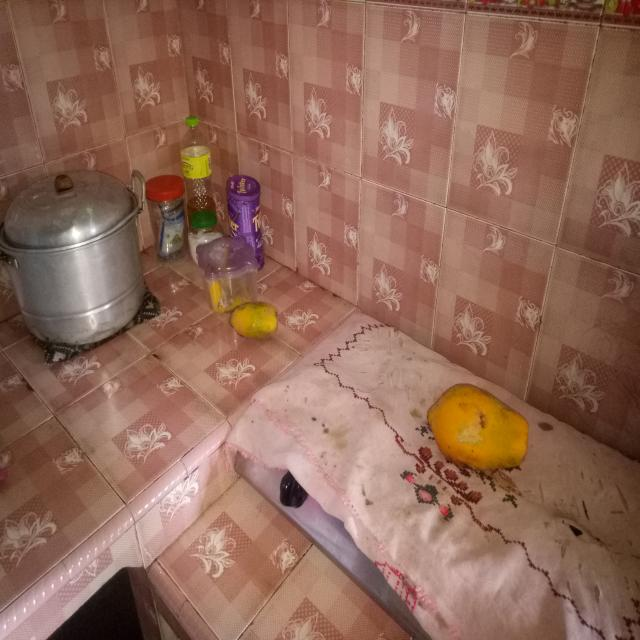Pepaya rippen: (426, 382, 532, 484), (227, 292, 282, 336)
